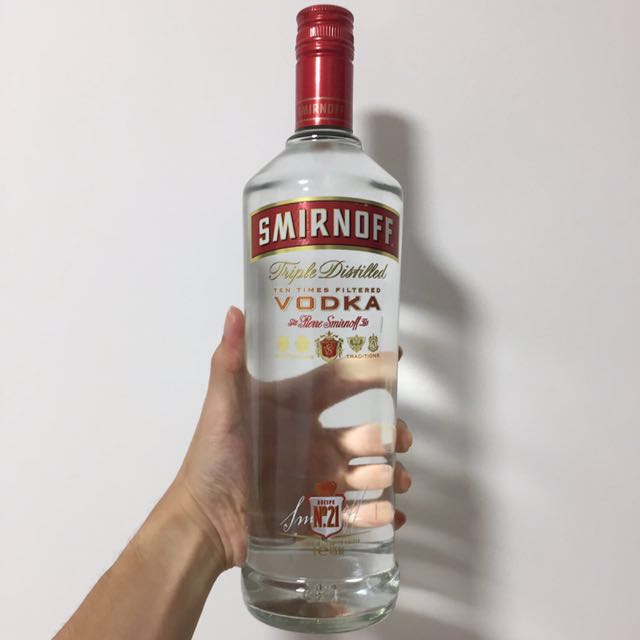Smirnoff: (208, 1, 431, 640)
